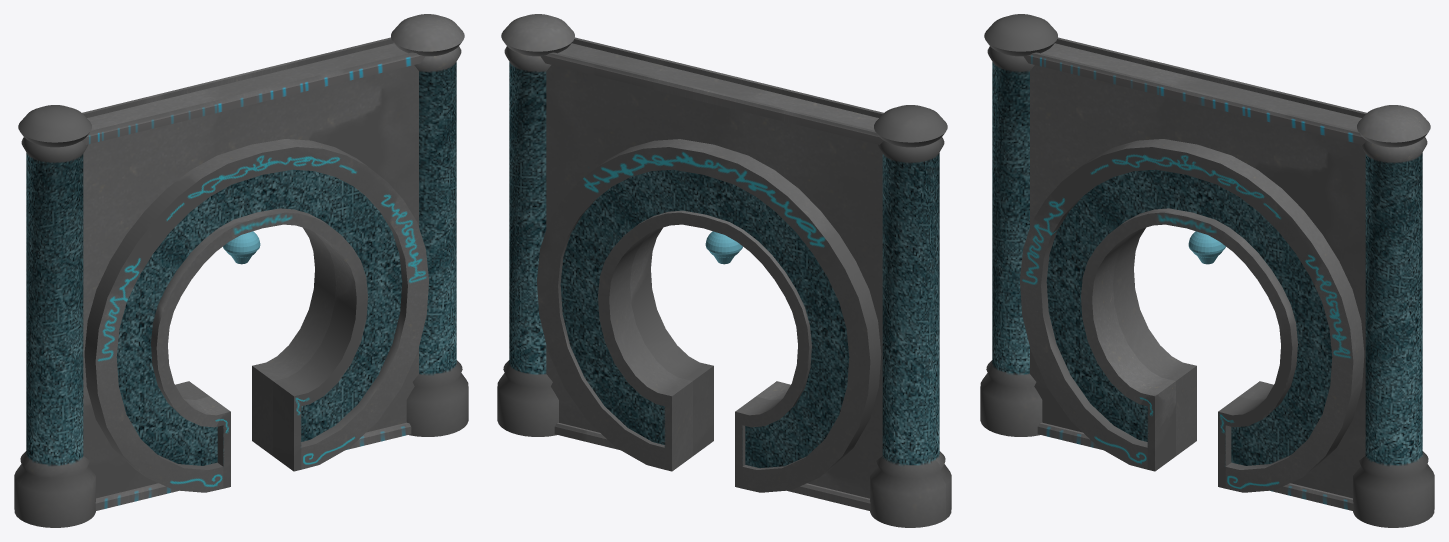
The model's file is Portal Final.fbx.
The picture shows the model from 3 angles, left to right: view 1: azimuth 30°, elevation 25°; view 2: azimuth 150°, elevation 25°; view 3: azimuth 330°, elevation 25°; orthographic projection.
Visible parts, largest first — view 1: Portal; view 2: Portal; view 3: Portal.
Part boxes in pixels (x1,y1,x2,y2): Portal: (14, 14, 468, 527); Portal: (497, 14, 951, 527); Portal: (980, 14, 1434, 527).
Bounding box in the file's own units: 1763 × 1521 × 288.
